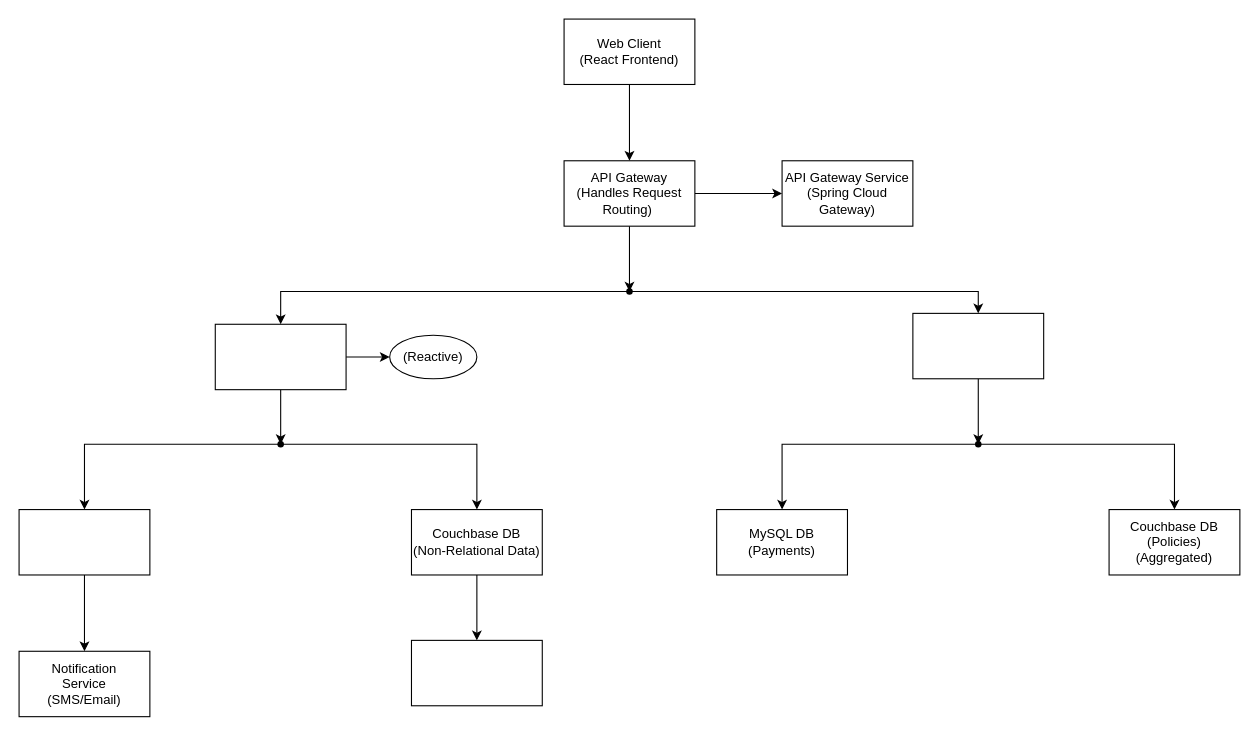
Image size: 1259x736. Some labels were removed from this diagram. Each missing label, with the box of its shape:
Insurance Service (Spring Boot, WebFlux, MySQL): (912, 312, 1044, 379)
MySQL DB (Transactional Data): (18, 508, 150, 575)
Payment Service (Spring Boot, Reactive with MySQL): (410, 639, 542, 706)
User Service (Spring Boot, WebFlux, Couchbase): (214, 323, 346, 390)
